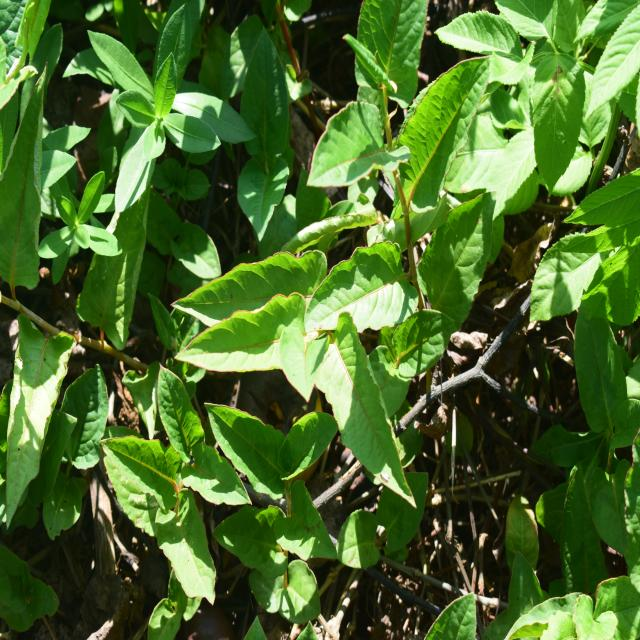Chinese_knotweed: (321, 0, 484, 375), (190, 221, 416, 491), (102, 368, 245, 594)
